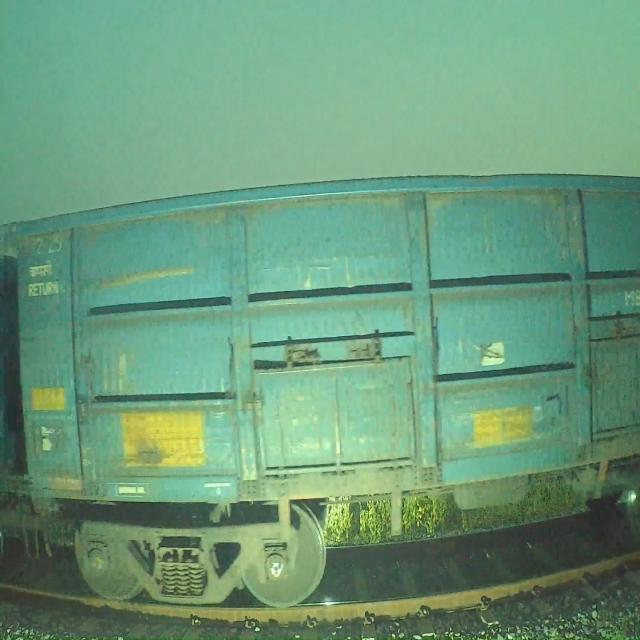WAgon-uic: (0, 169, 640, 618)
